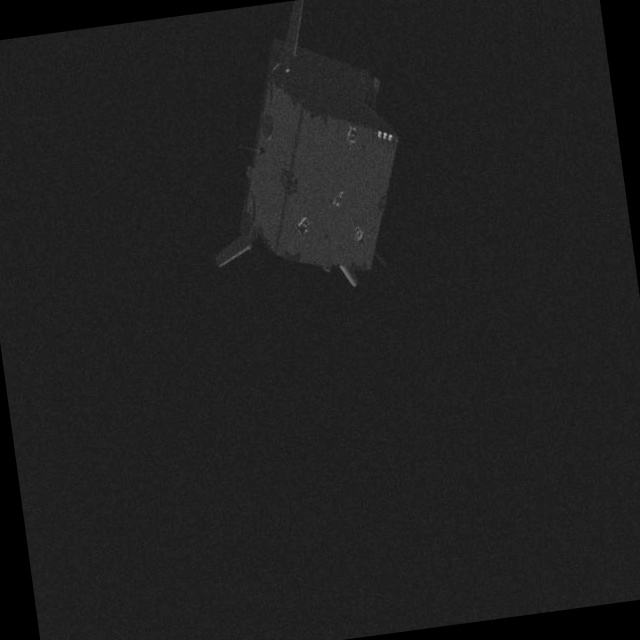satellite: (165, 0, 422, 313)
